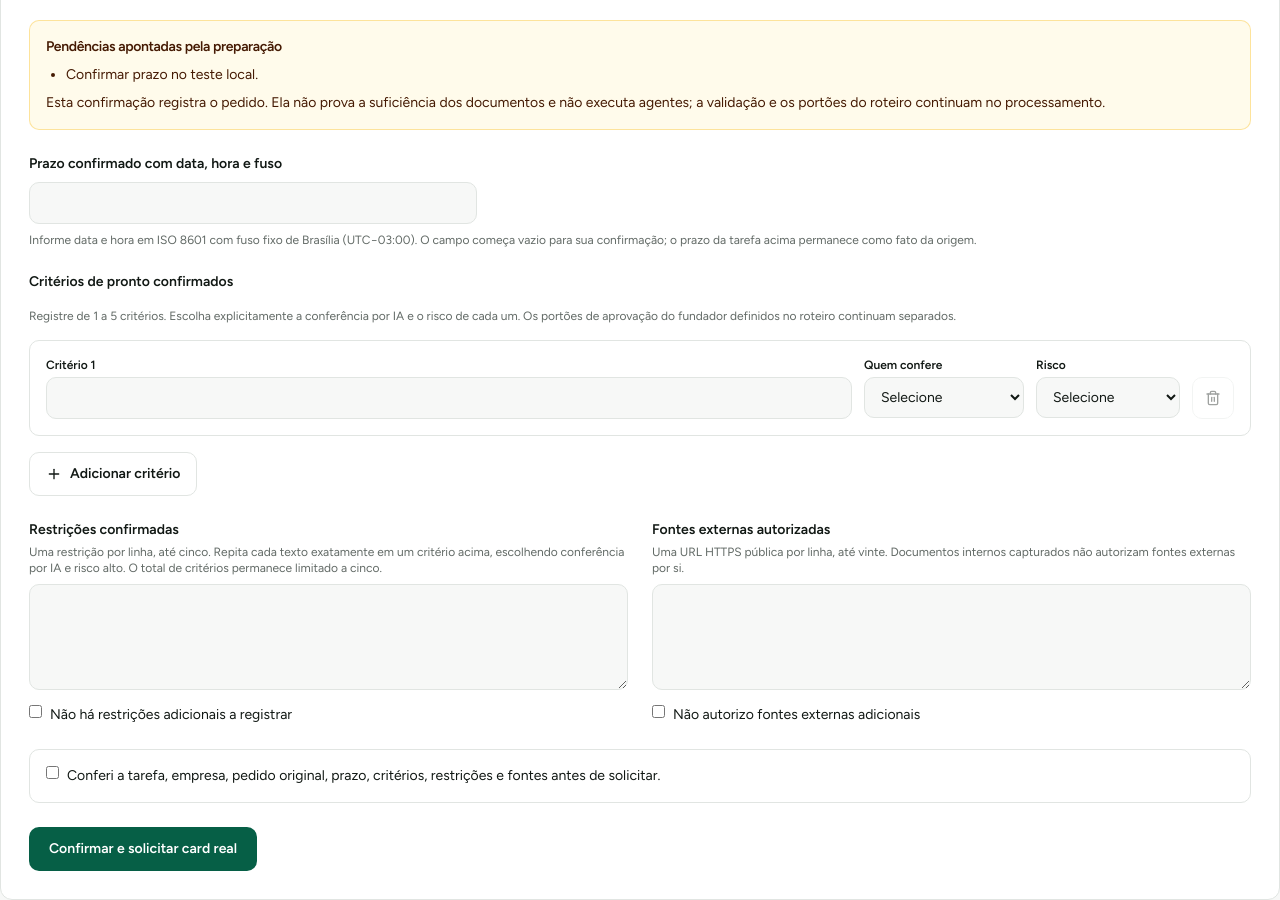
Test: exige conferência explícita e envia somente quatro campos editados com revisão resolvida no servidor
The image size is (1280, 900).
Earlier steps of the test are not shown.
(page scrolled)
In the field labelled "Prazo confirmado com data, hora e fuso": coordinates (253, 203) 29,182 -> 477,224, type "2030-10-20T15:00:00-03:00"
In the field labelled "Critério 1": coordinates (449, 398) 46,377 -> 852,419, type "Entrega verificável no teste"
Select "IA" in the dropdown labelled "Quem confere": coordinates (944, 398) 864,377 -> 1024,418
(page scrolled)
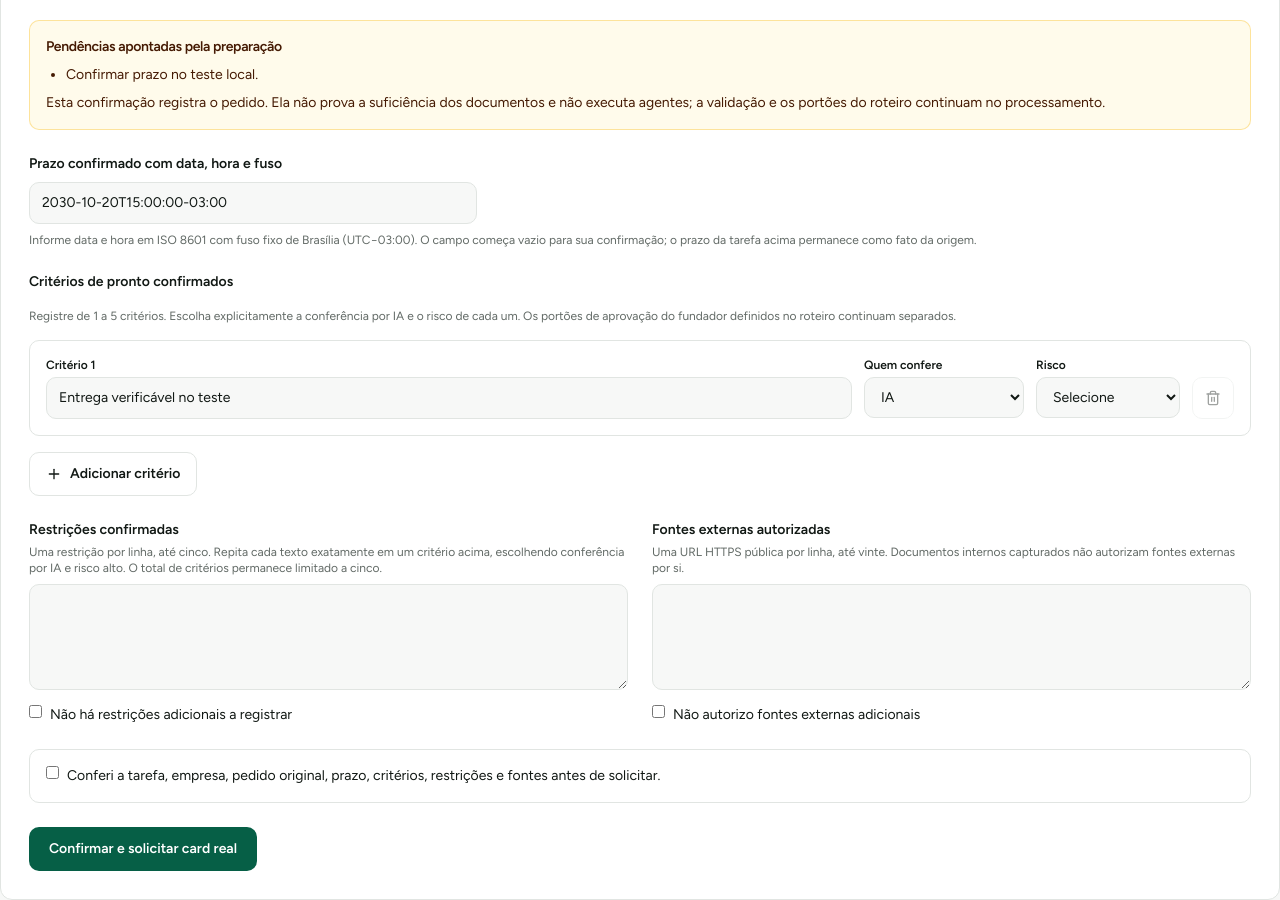
Select "Alto" in the dropdown labelled "Risco": coordinates (1108, 398) 1036,377 -> 1180,418
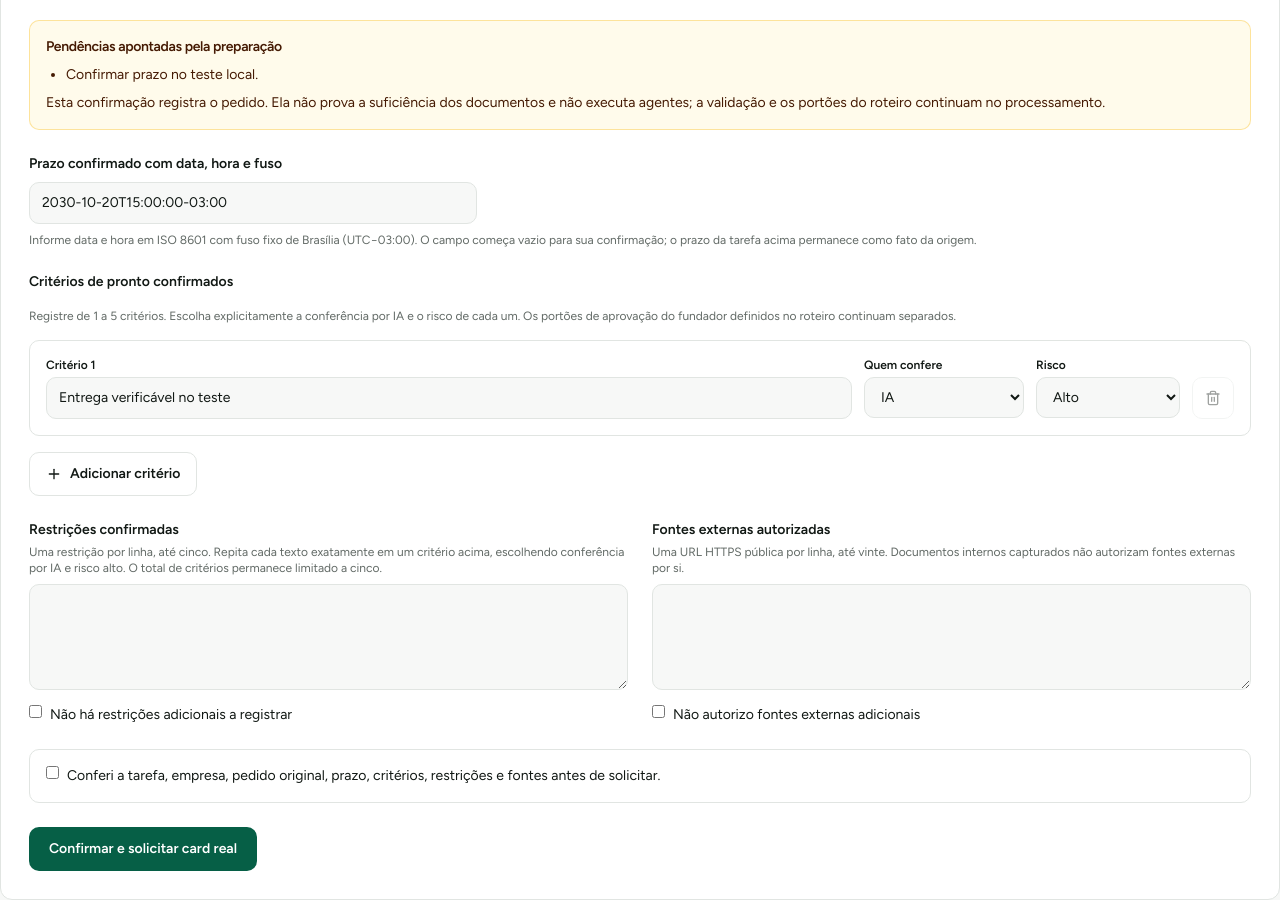
Click the checkbox labelled "Não há restrições adicionais a registrar": coordinates (36, 712) 29,705 -> 42,718
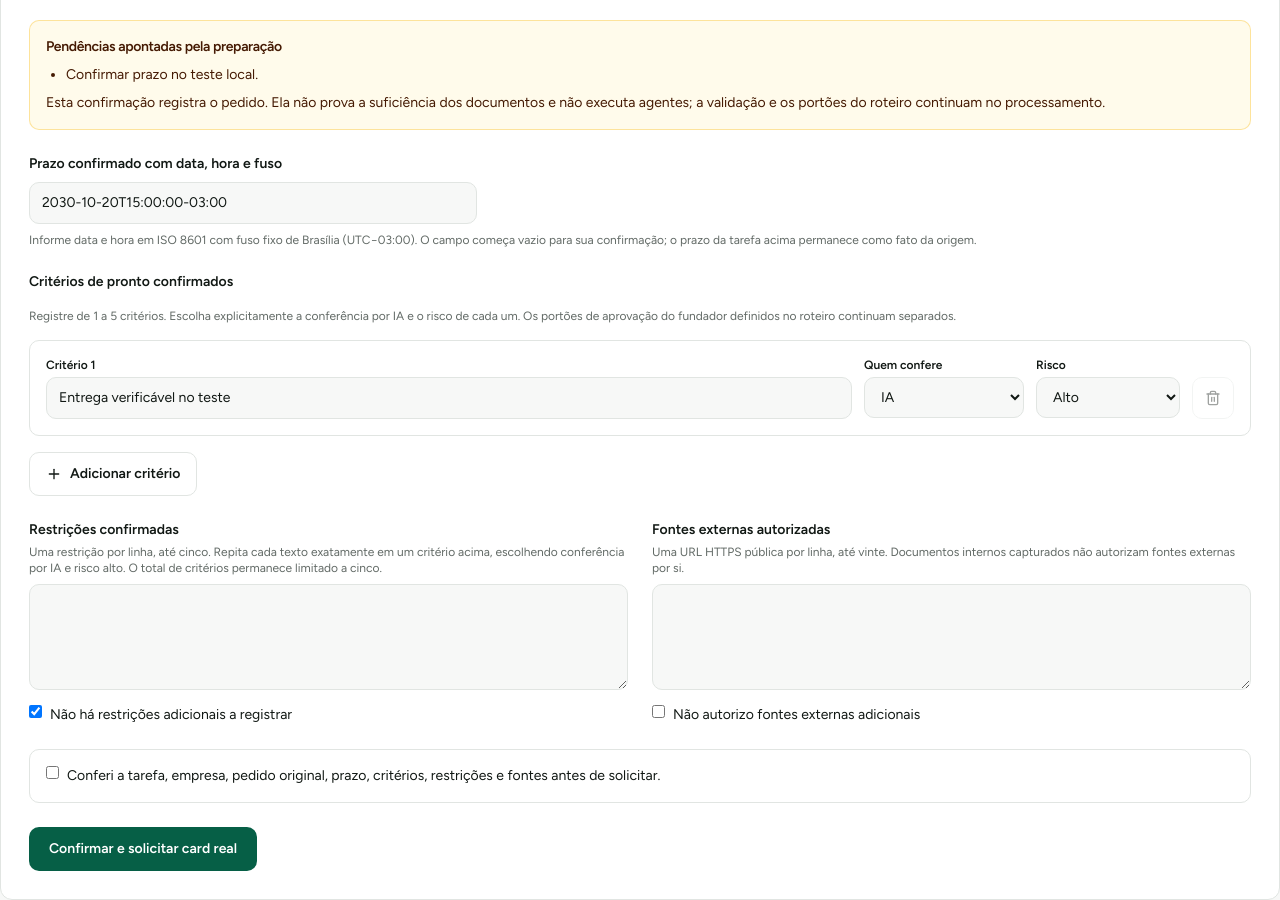
In the text box labelled "Fontes externas autorizadas": coordinates (952, 637) 652,584 -> 1251,690, type "https://www.gov.br/assunto"
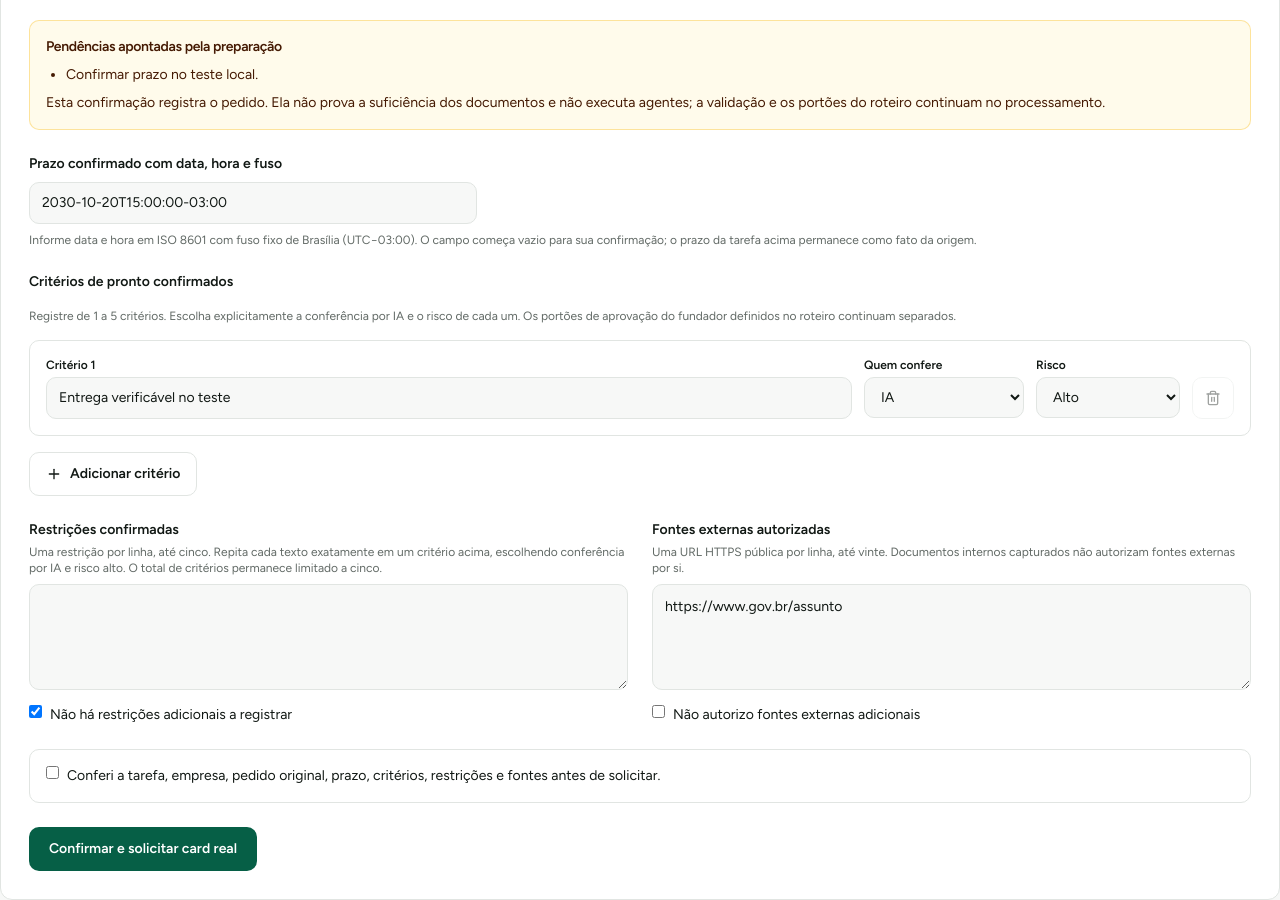
Click the checkbox labelled "Conferi a tarefa, empresa": coordinates (52, 772) 46,766 -> 59,779
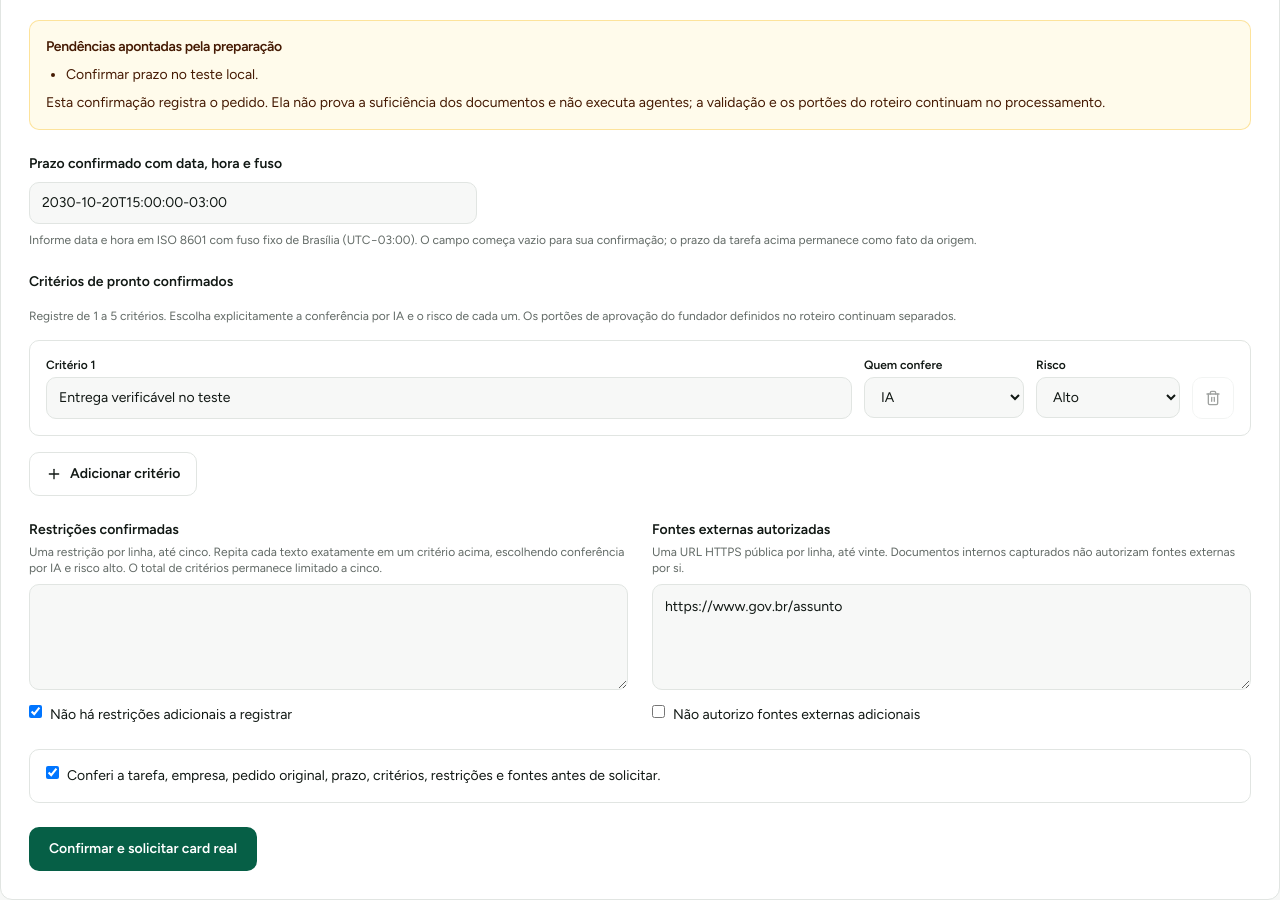
Click the button "Confirmar e solicitar card real": coordinates (143, 849) 29,827 -> 257,871
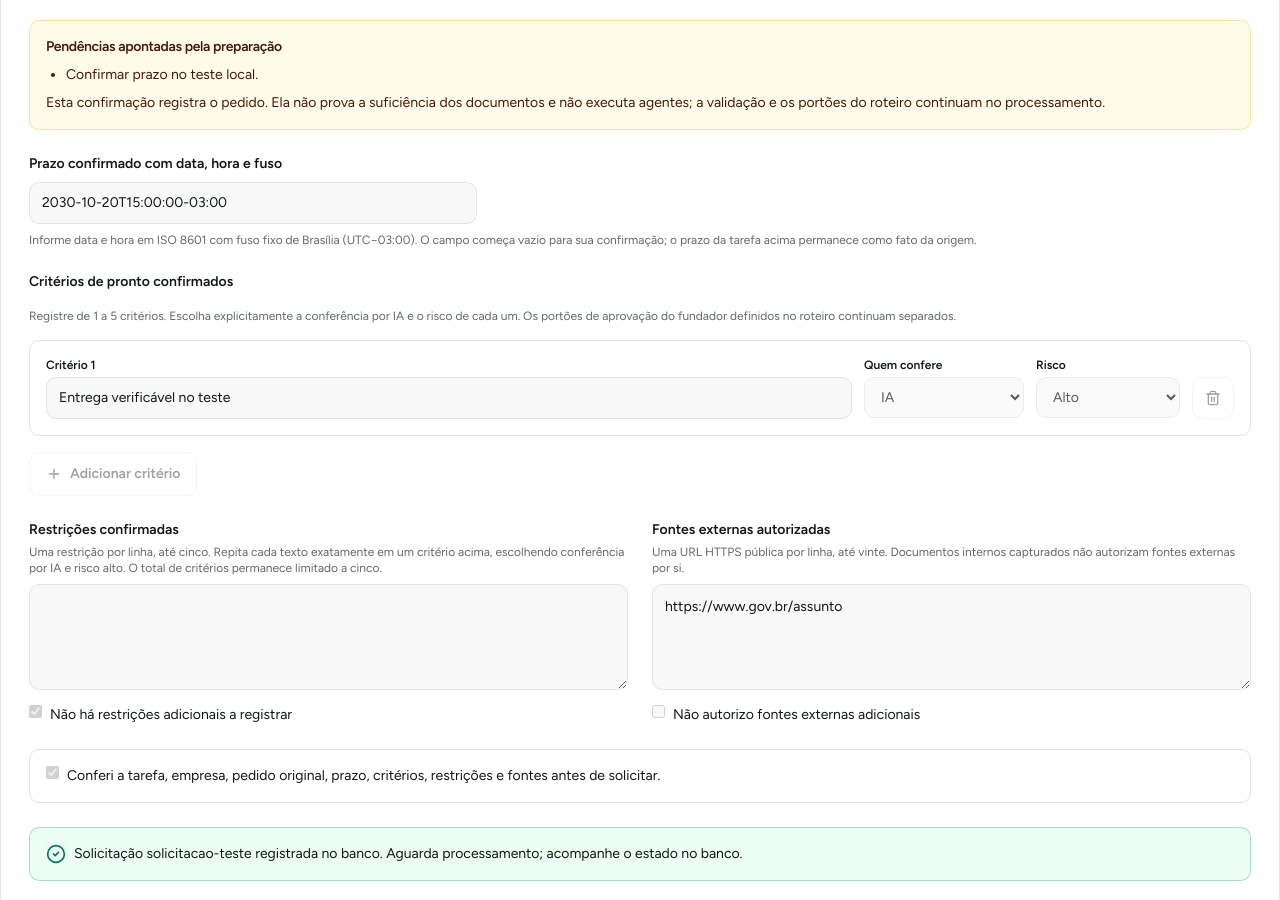
Result: the text "Aguarda processamento" is shown at 386,845 -> 742,862
